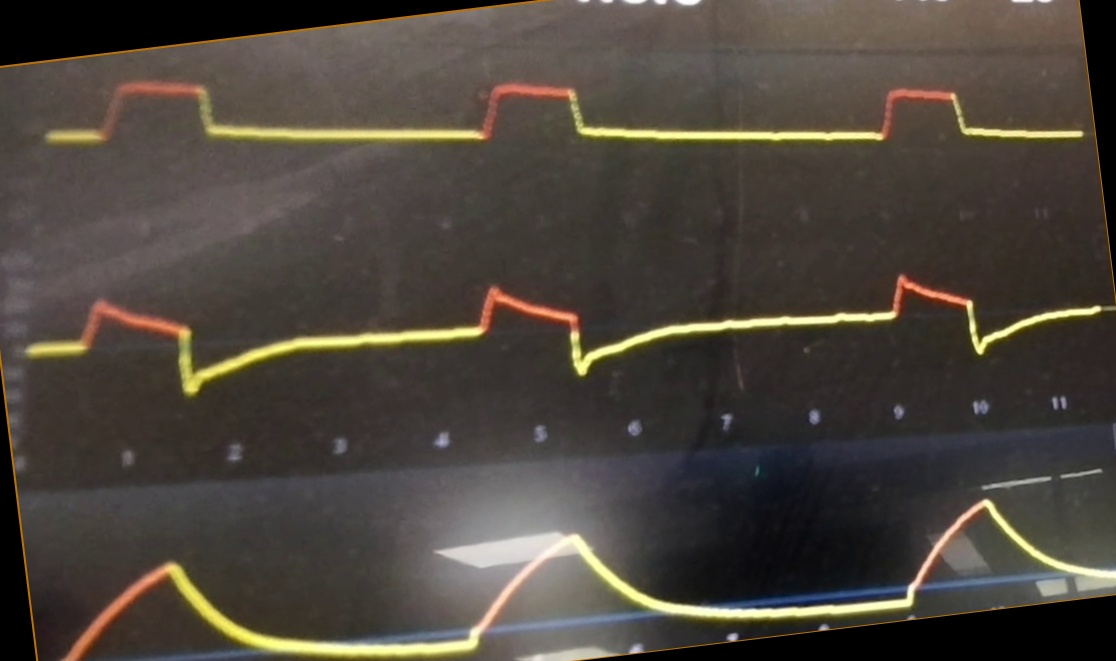Normal Flow: (27, 235, 1106, 394)
Normal Volume: (57, 492, 1116, 659)
